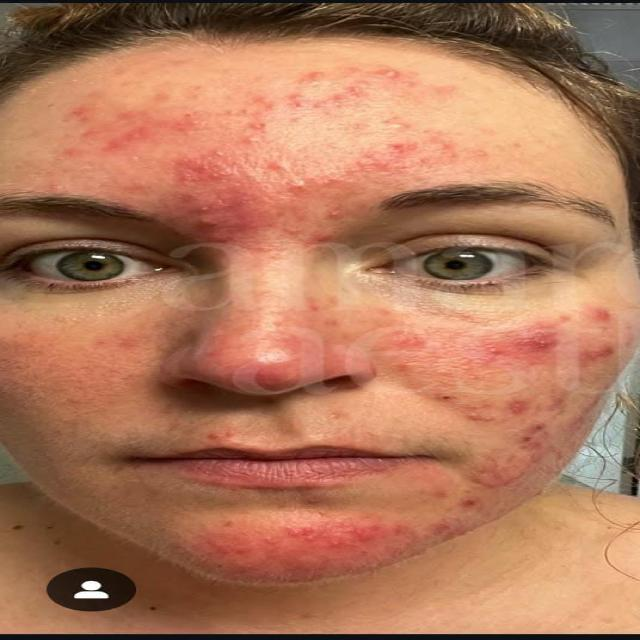Rosacea: (69, 102, 404, 215), (351, 319, 628, 382)
